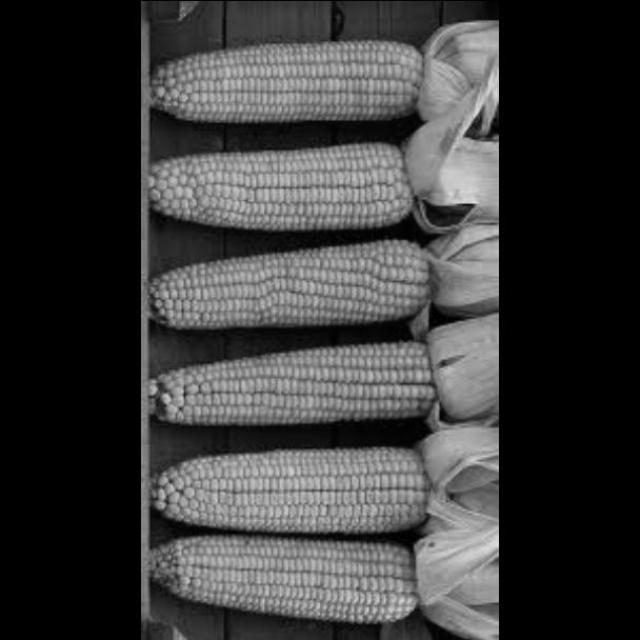cereal: (148, 228, 439, 338), (142, 434, 452, 530), (148, 134, 427, 238), (154, 331, 440, 432), (153, 34, 434, 128), (144, 534, 429, 622)
